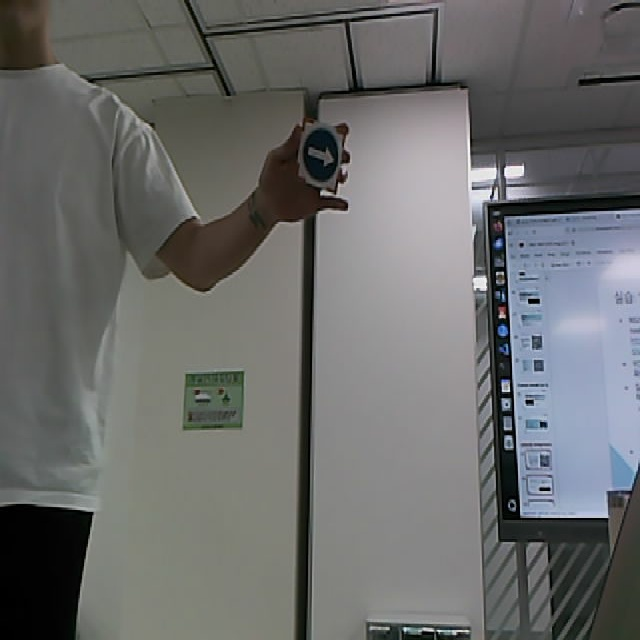straight: (296, 116, 347, 195)
